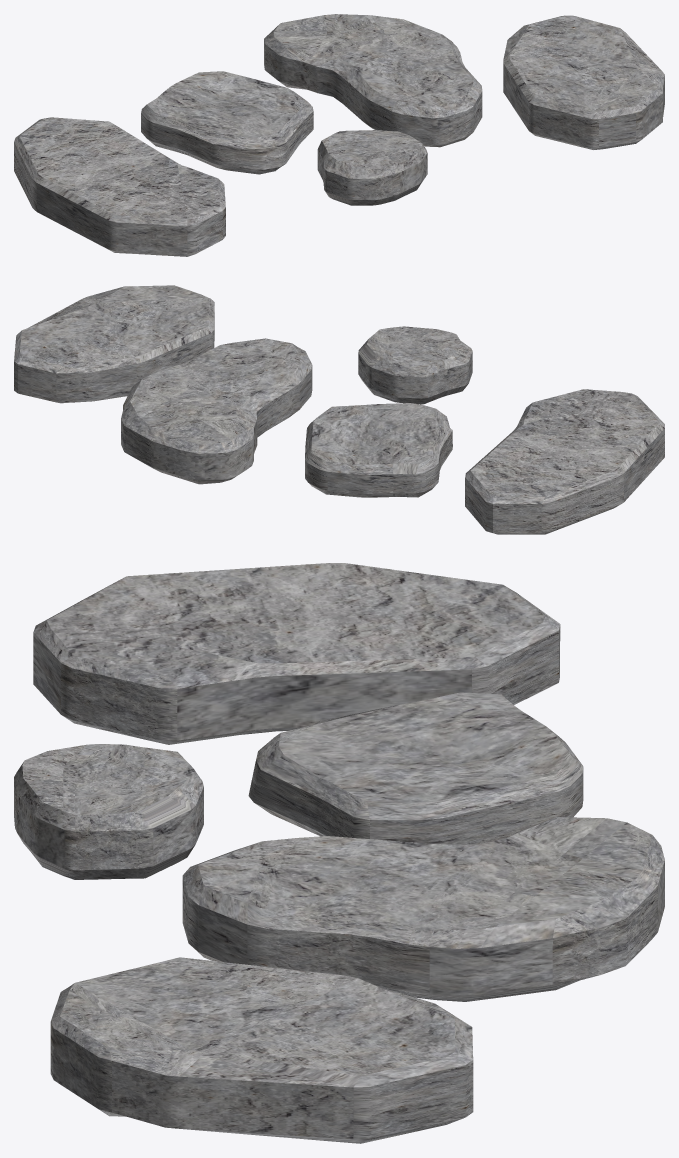
File: stepstones.fbx
3 renders of one model, top to bottom at view 1: azimuth 30°, elevation 25°; view 2: azimuth 150°, elevation 25°; view 3: azimuth 270°, elevation 25°, orthographic. The views are drawn at different scales.
Parts seen in each view (by area): view 1: pCube11, pCube4, pCube10, pCube5, pCube3; view 2: pCube11, pCube4, pCube10, pCube5, pCube3; view 3: pCube11, pCube4, pCube10, pCube5, pCube3.
Boxes of the visible parts, x1,y1,x2,y2 form: pCube11: (14,117,225,256); pCube4: (264,14,482,147); pCube10: (503,15,664,149); pCube5: (141,71,313,174); pCube3: (317,130,427,205); pCube11: (465,389,664,534); pCube4: (121,338,312,484); pCube10: (14,285,214,403); pCube5: (305,403,452,497); pCube3: (358,326,472,404); pCube11: (33,563,560,744); pCube4: (182,817,664,1001); pCube10: (50,957,473,1143); pCube5: (248,692,583,844); pCube3: (14,744,203,879).
Bounding box in the file's own units: 6.54 × 0.5041 × 3.45.
1 material, 1 textured.
